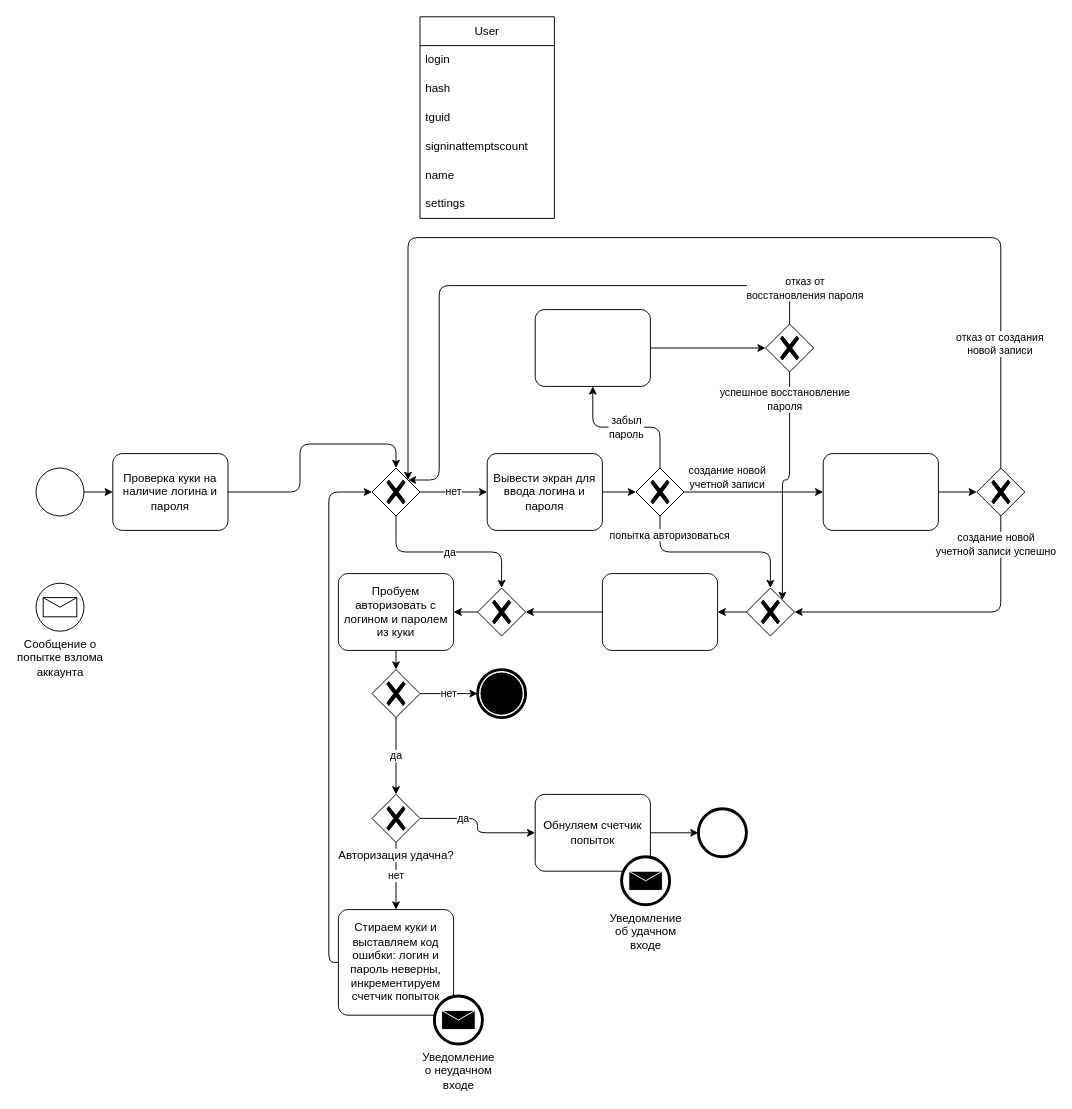
Some shapes in this 1072 by 1109 pixel diagram are drawn without their labels. The centre of each missing label's shape, as x and y in pixels:
"Вывести экран Восстановление пароля" goes at [592,347].
"Вывести экран для создания новой учетной записи" goes at [880,491].
"Записываем логин и пароль в куки" goes at [659,611].
"Куки есть?" goes at [395,491].
"Сервер доступен и исправен?" goes at [395,693].
